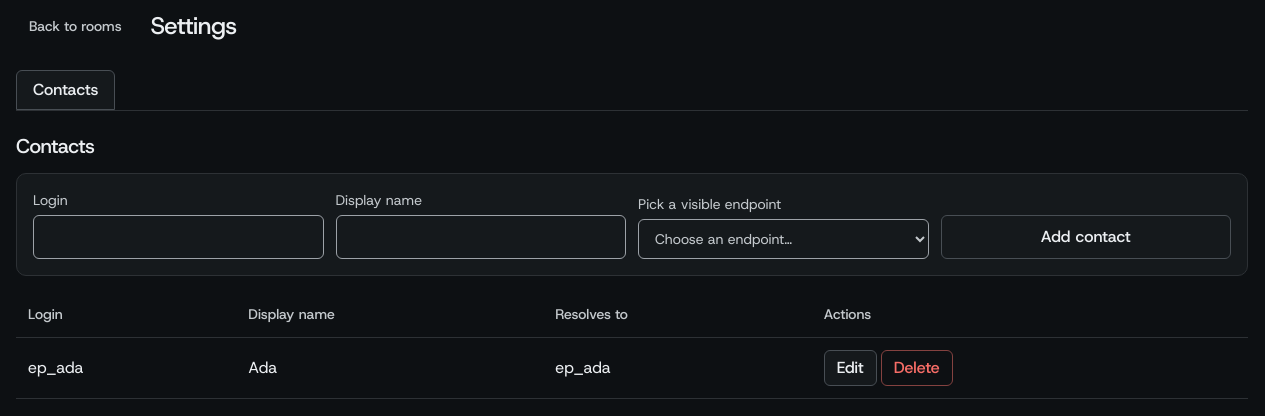
Test: SettingsPage contacts › fills the login when a visible endpoint is picked and deduplicates options
Step 1. Select "Member (ep_member)" in the dropdown labelled "Pick a visible endpoint" → [783, 239], box top-left (638, 219), bottom-right (928, 259)
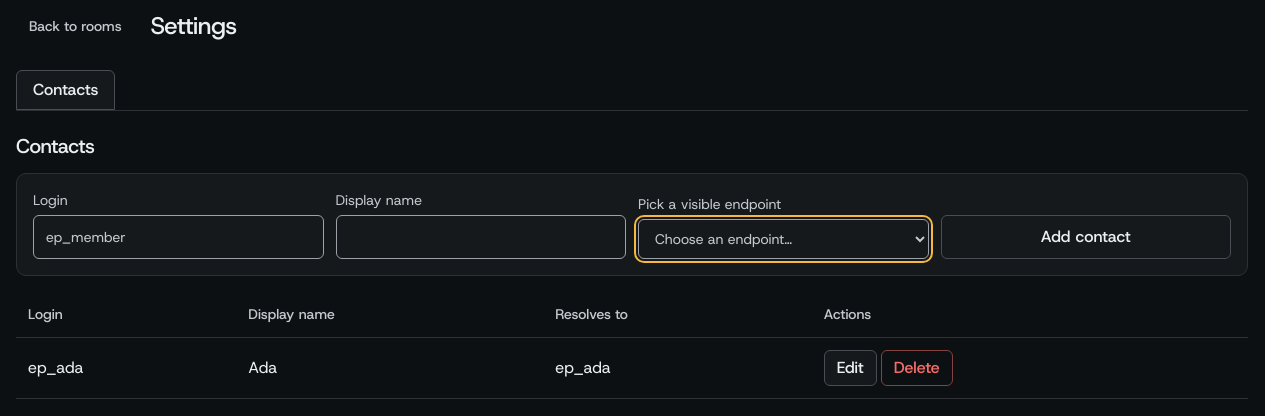
Check: the field labelled "Login" holds "ep_member", box top-left (33, 215), bottom-right (324, 259)
